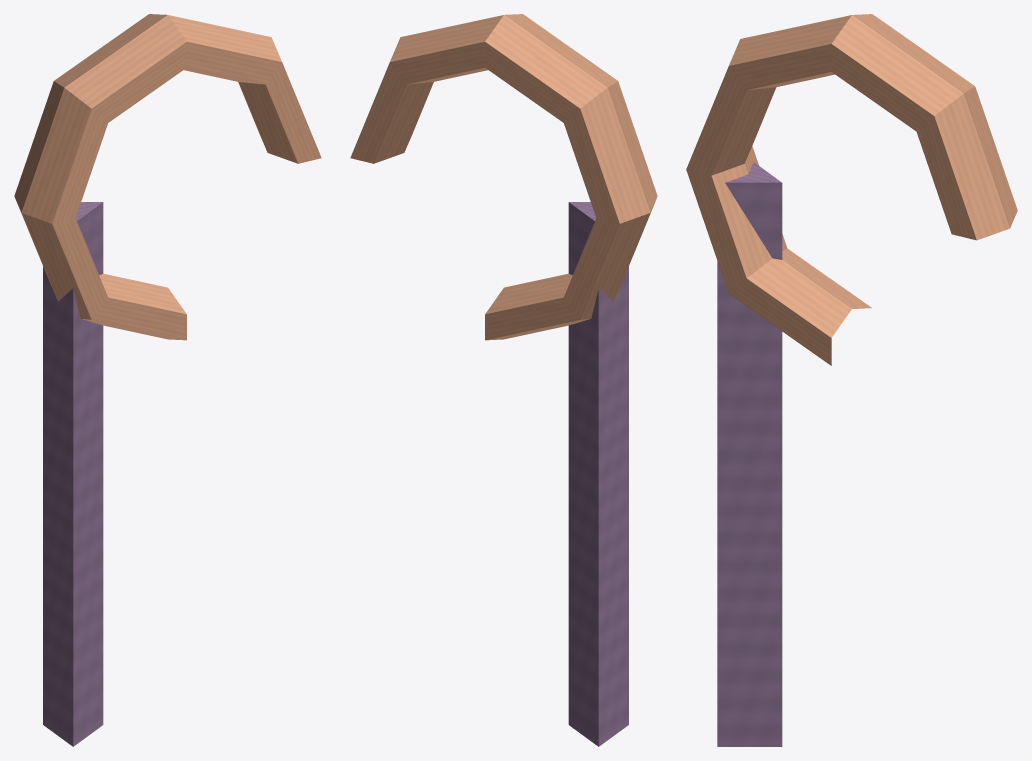
Rendered from atlas100-s089-a05.lod1.glb.
The picture shows the model from 3 angles, left to right: view 1: azimuth 30°, elevation 25°; view 2: azimuth 150°, elevation 25°; view 3: azimuth 330°, elevation 25°; orthographic projection. The views are drawn at different scales.
Visible parts, largest first — view 1: atlas100-s089-a05:part-001, atlas100-s089-a05:part-000; view 2: atlas100-s089-a05:part-001, atlas100-s089-a05:part-000; view 3: atlas100-s089-a05:part-001, atlas100-s089-a05:part-000.
Part boxes in pixels (left/top/right/bottom): atlas100-s089-a05:part-001: left=14, top=14, right=321, bottom=340; atlas100-s089-a05:part-000: left=43, top=202, right=103, bottom=746; atlas100-s089-a05:part-001: left=350, top=14, right=657, bottom=340; atlas100-s089-a05:part-000: left=568, top=202, right=628, bottom=746; atlas100-s089-a05:part-001: left=686, top=14, right=1017, bottom=365; atlas100-s089-a05:part-000: left=717, top=162, right=782, bottom=746.
Size of the model in its own units: 0.3713 by 0.8408 by 0.0832.
2 materials, 2 textured.
